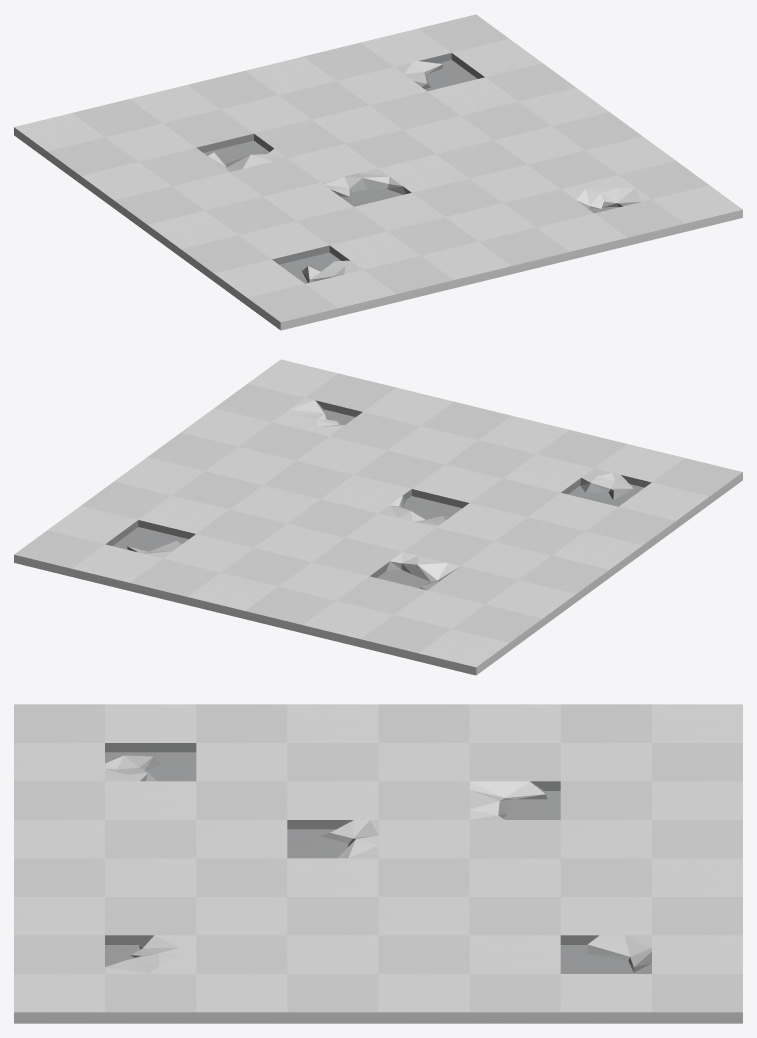
The model's file is floor_tile_2.obj.
3 views of the same model, one above another, from view 1: azimuth 30°, elevation 25°; view 2: azimuth 150°, elevation 25°; view 3: azimuth 270°, elevation 25° (orthographic). The views are drawn at different scales.
Parts seen in each view (by area): view 1: floor_tile_2_Material; view 2: floor_tile_2_Material; view 3: floor_tile_2_Material.
Part boxes in pixels (left/top/right/bottom): floor_tile_2_Material: left=14, top=14, right=742, bottom=330; floor_tile_2_Material: left=14, top=359, right=742, bottom=675; floor_tile_2_Material: left=14, top=704, right=742, bottom=1023.
Size of the model in its own units: 3.51 by 0.0769 by 3.51.
